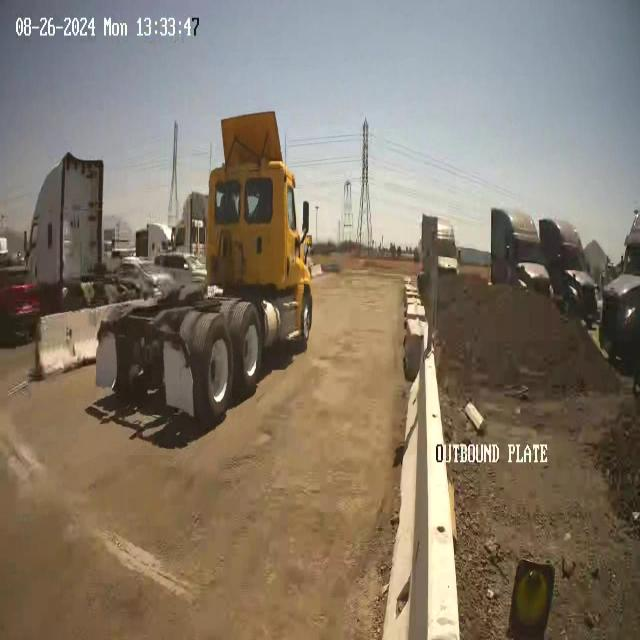BOBTAIL: (94, 108, 314, 431)
